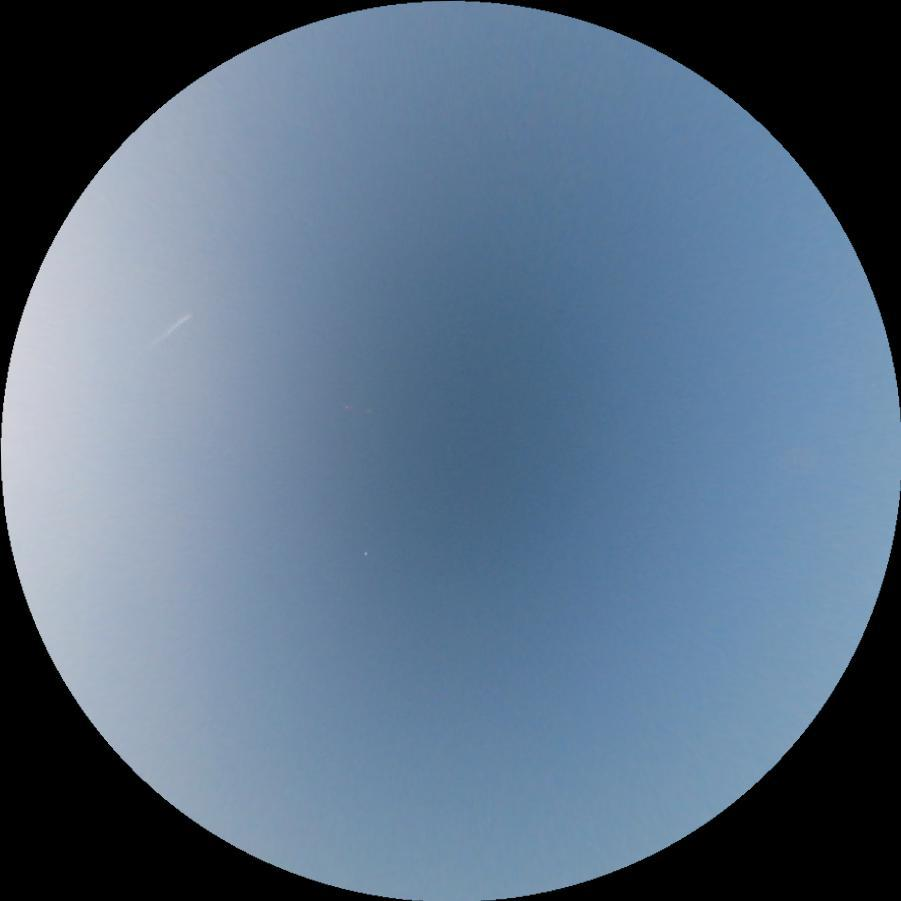contrail young: (153, 309, 193, 344)
